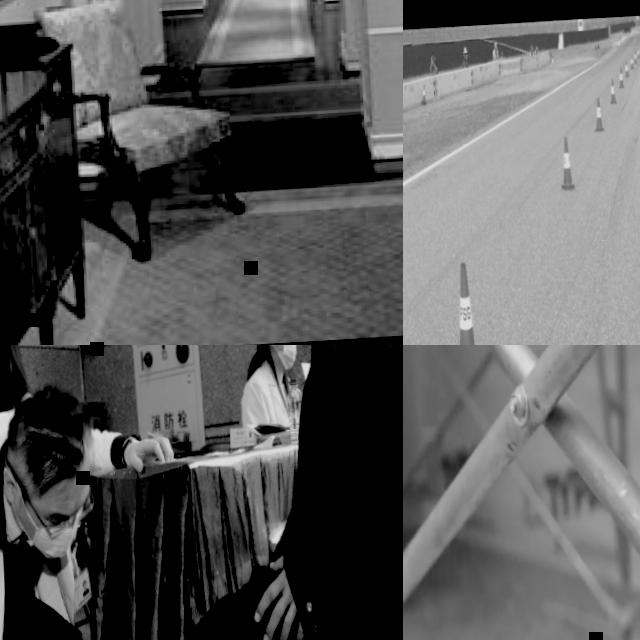Mask: (33, 524, 84, 559), (278, 345, 300, 372)
NO-Hardhat: (9, 384, 92, 496), (432, 50, 435, 56), (464, 49, 467, 55), (494, 44, 497, 49)
NO-Safety Vest: (294, 345, 403, 611), (0, 407, 49, 640), (250, 365, 297, 427), (431, 59, 437, 74), (463, 54, 469, 67)
Person: (85, 345, 403, 640), (0, 379, 191, 640), (235, 345, 311, 434), (0, 345, 34, 412), (430, 47, 438, 76), (462, 48, 469, 68), (493, 44, 499, 61), (530, 47, 535, 59), (500, 53, 504, 61), (535, 48, 539, 55)
Safety Cone: (446, 261, 486, 345), (559, 137, 576, 193), (594, 98, 604, 132), (609, 79, 617, 104), (618, 68, 624, 90), (625, 61, 630, 78), (422, 86, 426, 105), (630, 56, 634, 71), (634, 52, 637, 65), (637, 48, 640, 60), (612, 40, 614, 48), (639, 45, 640, 56)
Safety Vest: (494, 50, 499, 63), (501, 56, 504, 62), (536, 51, 539, 56)
